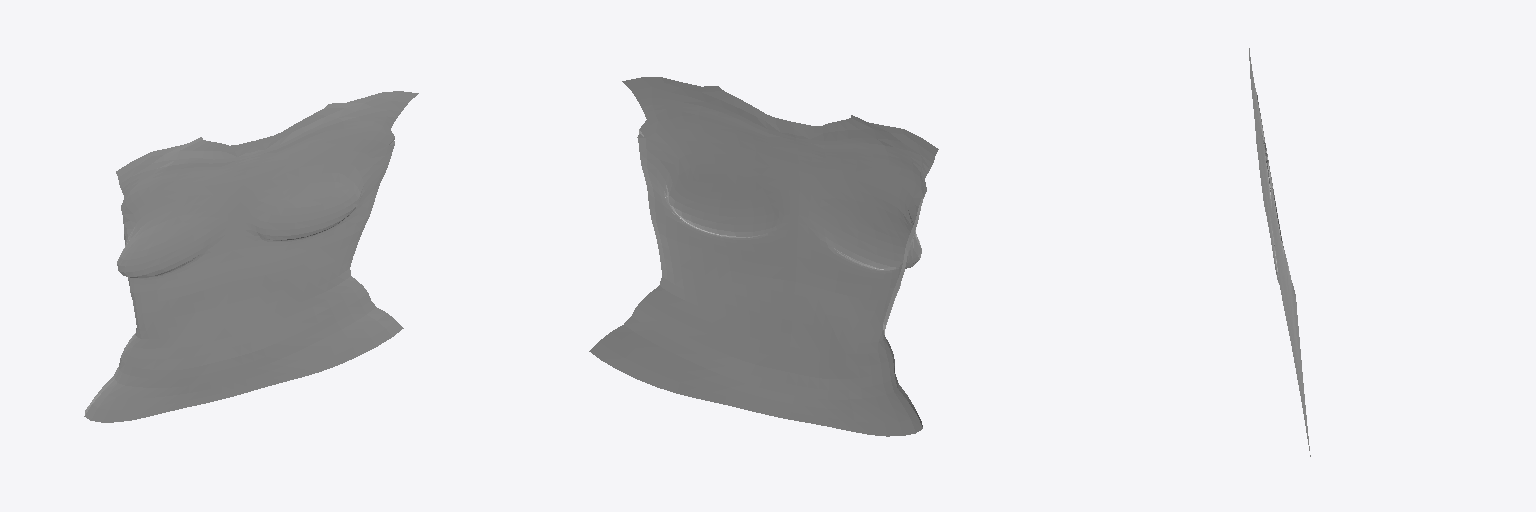
File: deformed_alpha_50_ModelRot.obj
3 renders of one model, left to right at view 1: azimuth 30°, elevation 25°; view 2: azimuth 150°, elevation 25°; view 3: azimuth 270°, elevation 25°, orthographic.
Bounding box in the file's own units: 0.5808 × 0.5 × 0.0961.